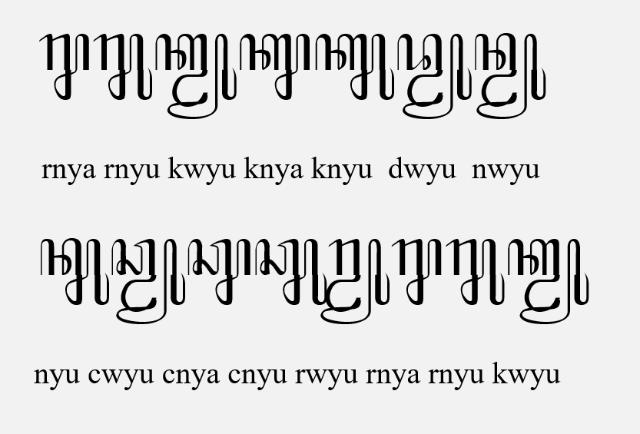cny: (188, 238, 250, 306)
cnyu: (254, 238, 326, 306)
cwyu: (112, 238, 186, 324)
dwyu: (396, 34, 472, 120)
kny: (240, 32, 310, 100)
knyu: (315, 32, 395, 100)
kwyu: (154, 34, 238, 120), (507, 238, 589, 324)
nnyu: (39, 237, 109, 305)
nwyu: (475, 33, 547, 119)
rny: (40, 34, 90, 100), (391, 239, 441, 305)
rnyu: (446, 238, 506, 306), (93, 34, 153, 100)
rwyu: (320, 237, 390, 325)
